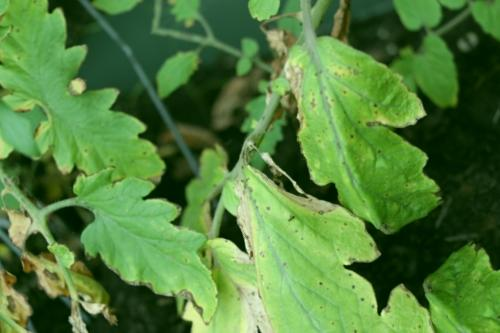Tomato Early blight leaf: (243, 6, 478, 259), (176, 122, 398, 333), (44, 129, 253, 333)
